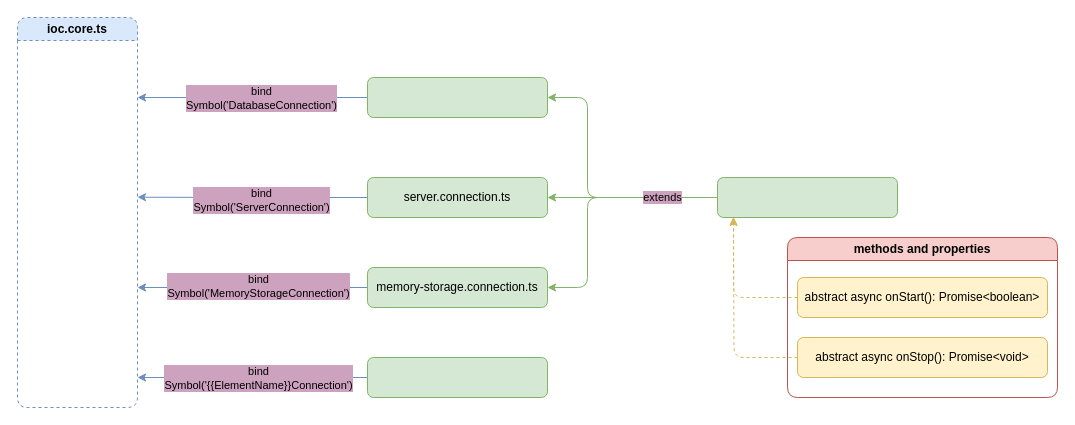
Image size: 1075x425. Some labels were removed from this diagram. The centre of each missing label's shape, as x and y in pixels:
"abstract.connection.ts" goes at (x=807, y=197).
"database.connection.ts" goes at (x=457, y=97).
"{{element-name}}.connection.ts" goes at (x=457, y=377).
